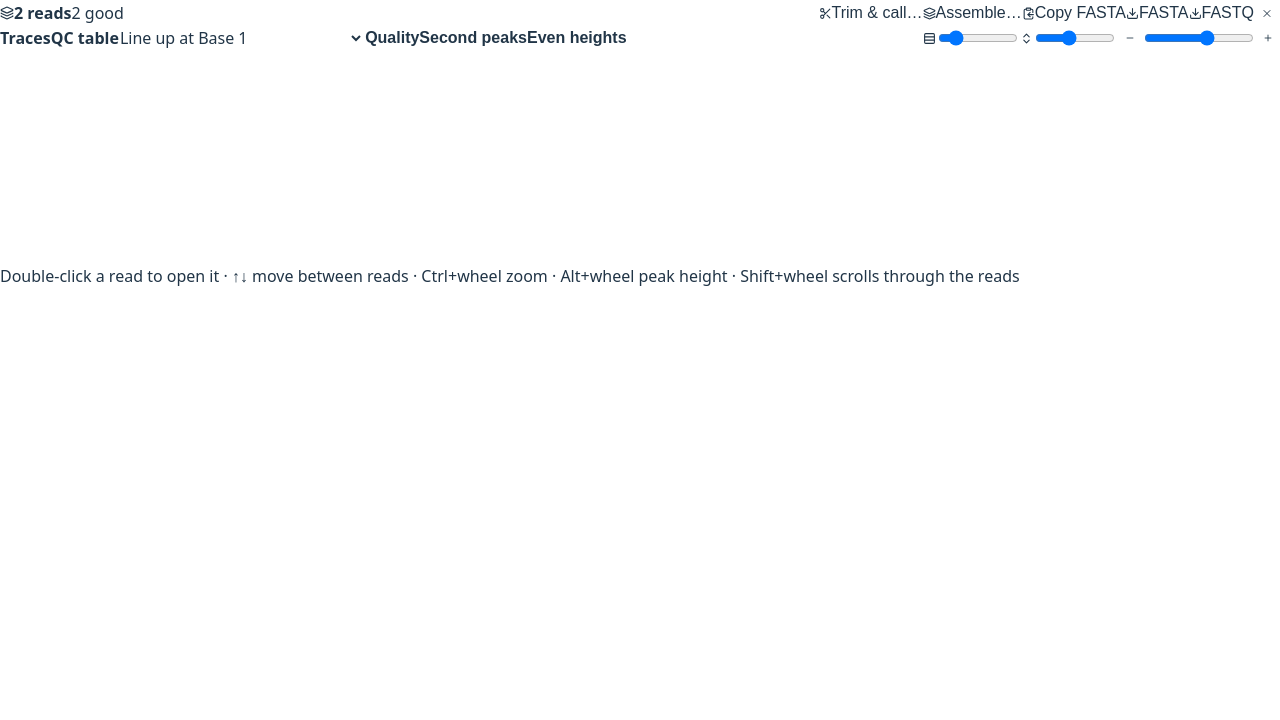
Test: Trim and call dialog › previews every read and applies to all of them, one undo step each
Click the button "Trim & call…" at {"x": 870, "y": 13}, box [818,4,922,22]
(page scrolled)
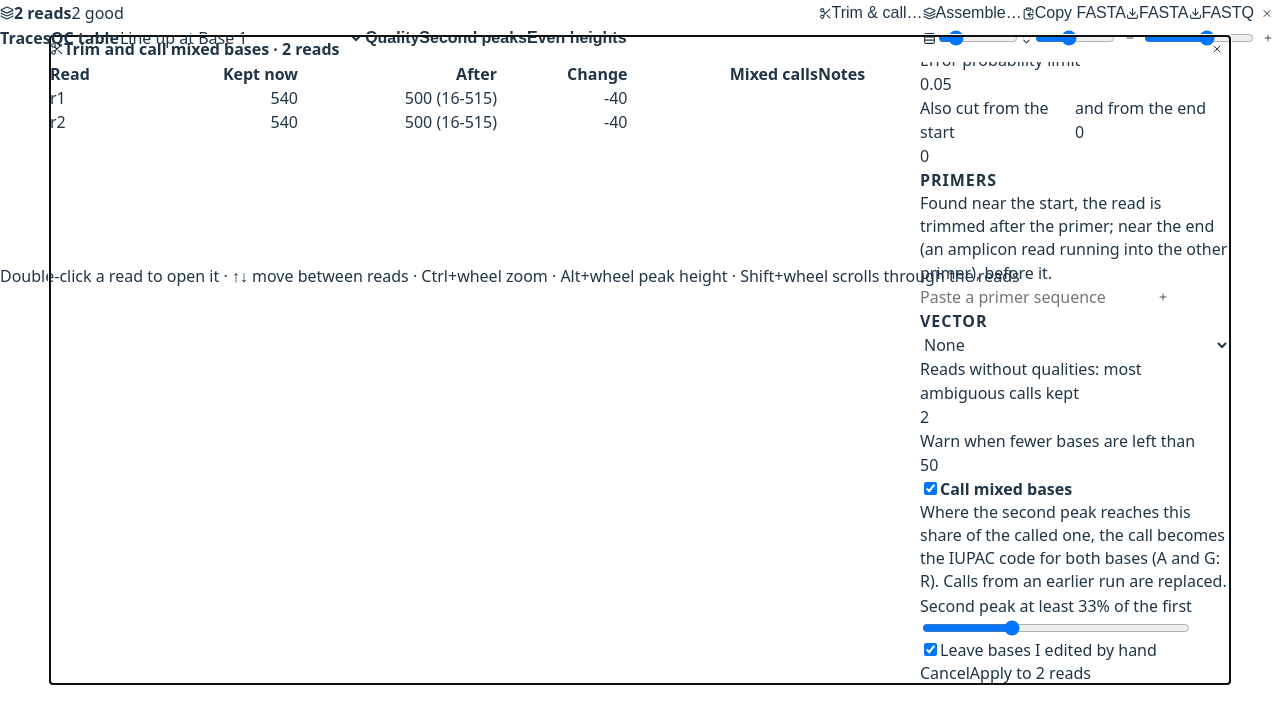
Now the dialog "Trim and call mixed bases" shows "r1", box [50,87,66,109]
Click the button "Apply to 2 reads" at {"x": 1030, "y": 672}, box [970,662,1091,684]
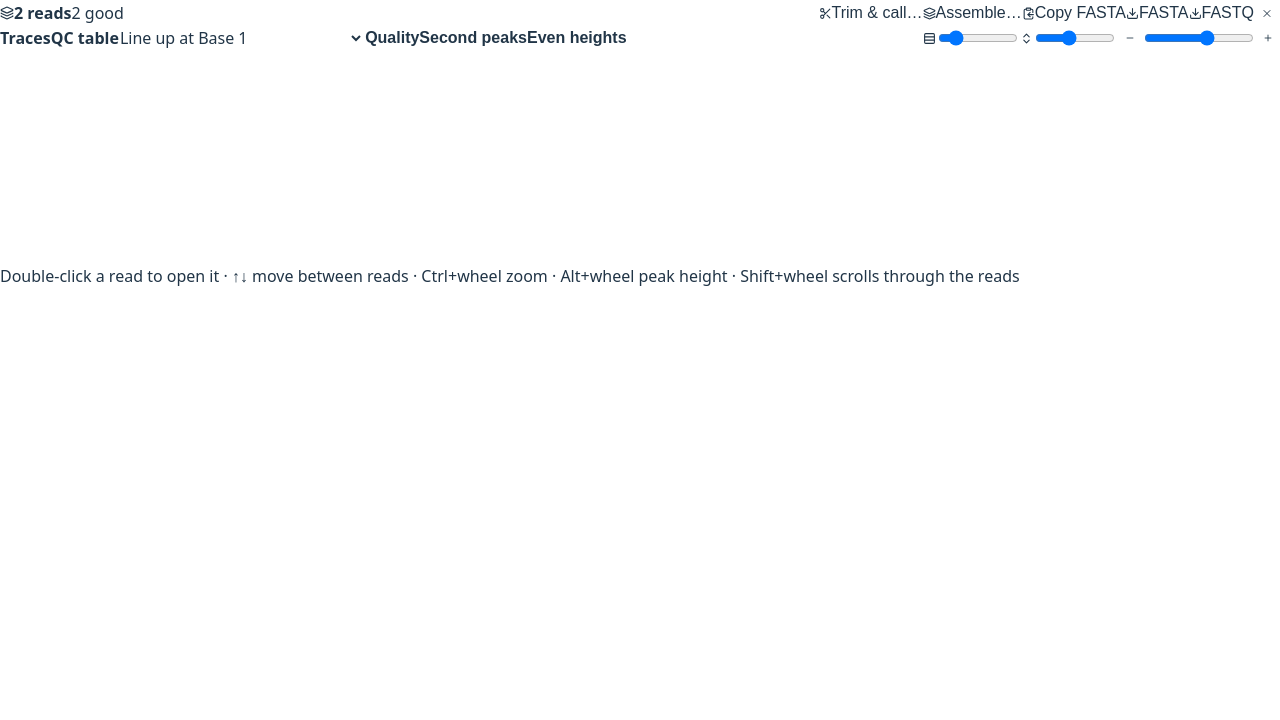
Now the dialog is gone
